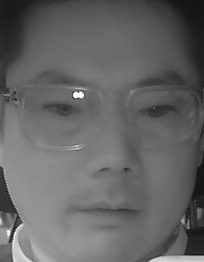glass: (13, 83, 100, 148), (125, 84, 200, 148)
mouth: (67, 187, 143, 236)
